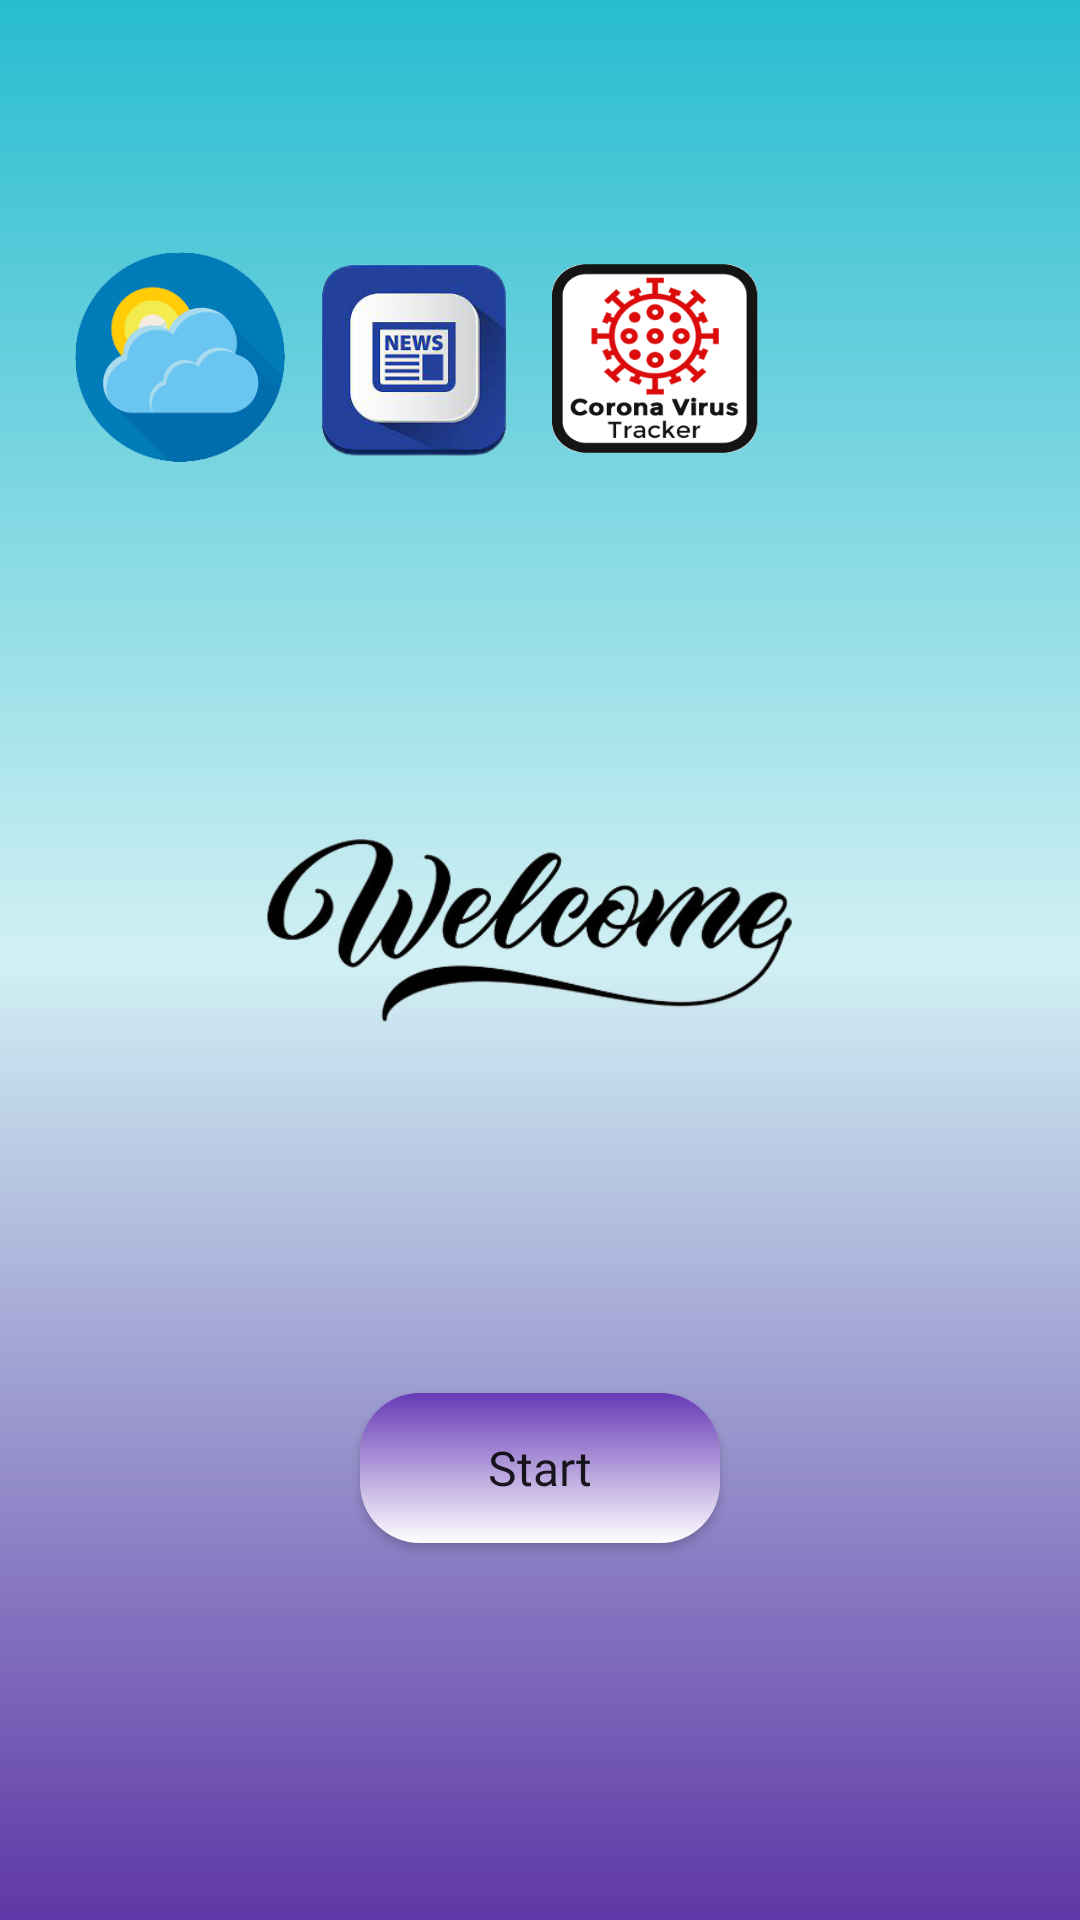

Screen size 1080px x 1920px. Icon name, then its center in pixels as point (x, y):
weather: point (180, 357)
